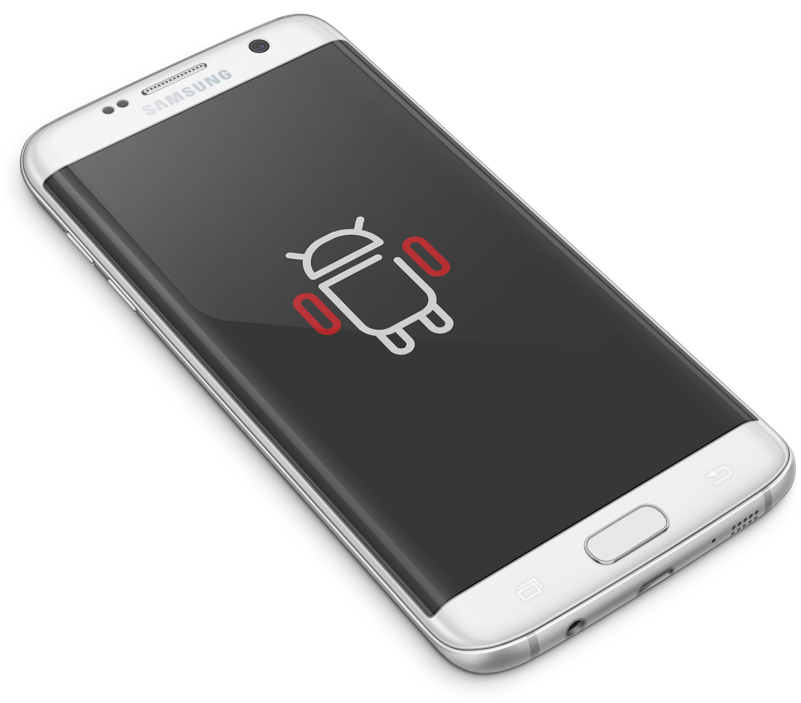phone: (17, 5, 800, 678)
